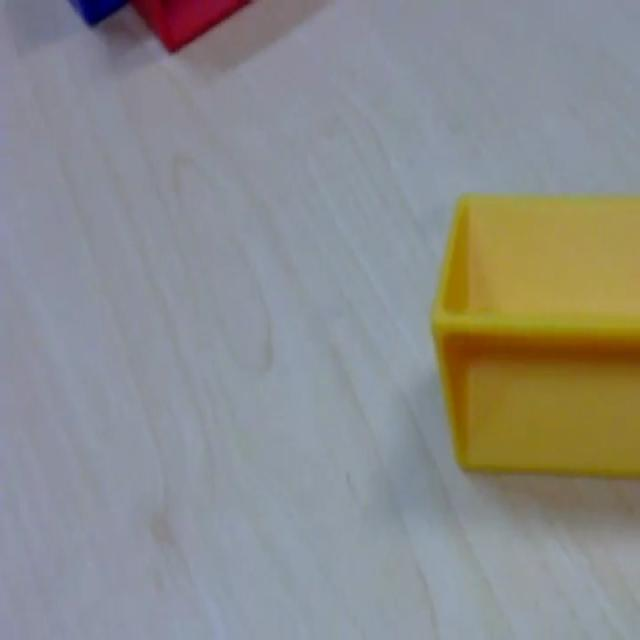yellow_block: (430, 188, 638, 479)
